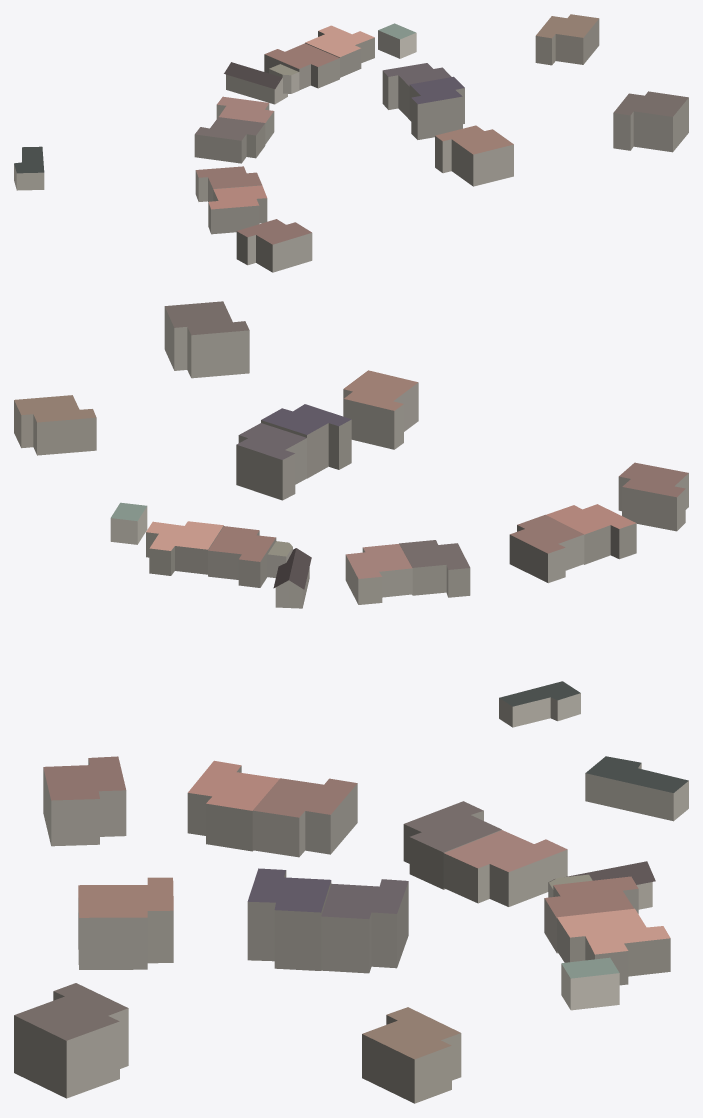
The picture shows the model from 3 angles, top to bottom: view 1: azimuth 30°, elevation 25°; view 2: azimuth 150°, elevation 25°; view 3: azimuth 270°, elevation 25°; orthographic projection. The views are drawn at different scales.
Parts seen in each view (by area): view 1: tuile; view 2: tuile; view 3: tuile.
Part boxes in pixels (box(x1,y1,x2,y2)): tuile: box(14, 14, 688, 272); tuile: box(14, 301, 688, 727); tuile: box(14, 756, 688, 1103).
Bounding box in the file's own units: 135 × 22.76 × 92.5.
